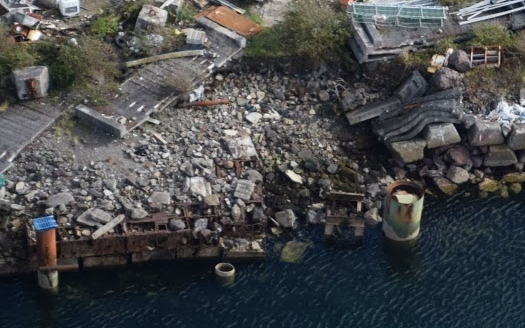cuboid: (461, 41, 508, 73), (27, 210, 63, 235)
straight_bar: (123, 45, 206, 69)
tube: (175, 94, 230, 113)
